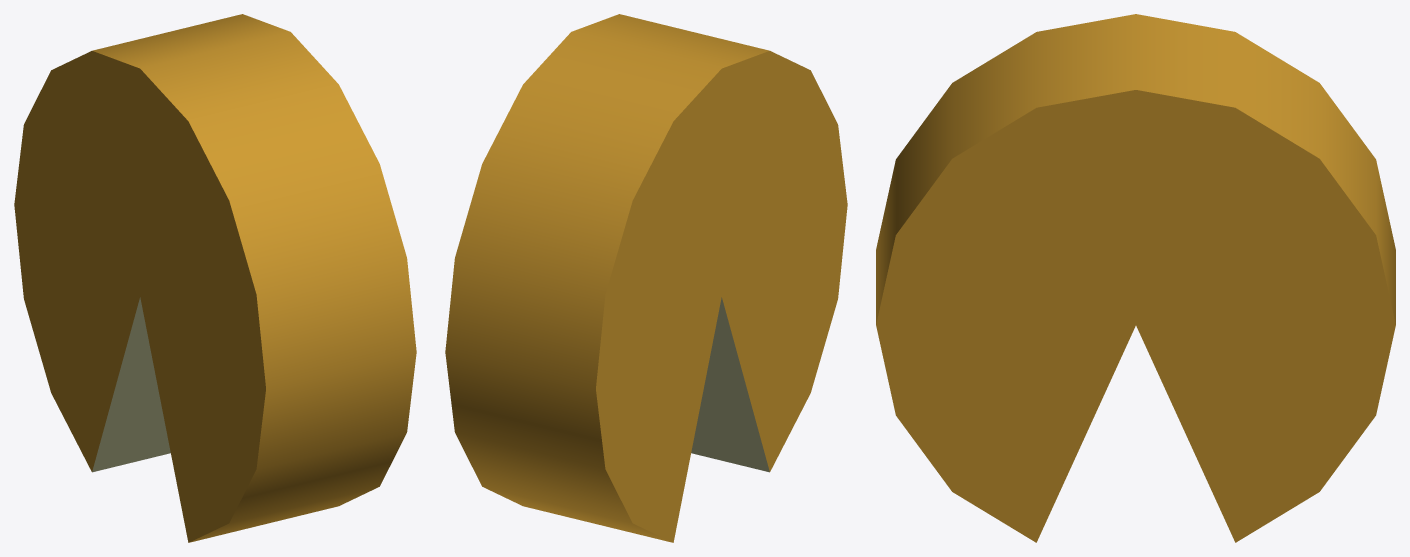
Rendered from cheese.fbx.
3 renders of one model, left to right at view 1: azimuth 30°, elevation 25°; view 2: azimuth 150°, elevation 25°; view 3: azimuth 270°, elevation 25°, orthographic. The views are drawn at different scales.
Parts seen in each view (by area): view 1: pCylinder76; view 2: pCylinder76; view 3: pCylinder76.
Boxes of the visible parts, box(x1,y1,x2,y2) form: pCylinder76: box(14, 14, 416, 542); pCylinder76: box(445, 14, 847, 542); pCylinder76: box(876, 14, 1395, 542).
Size of the model in its own units: 0.2995 by 0.8348 by 0.8678.
